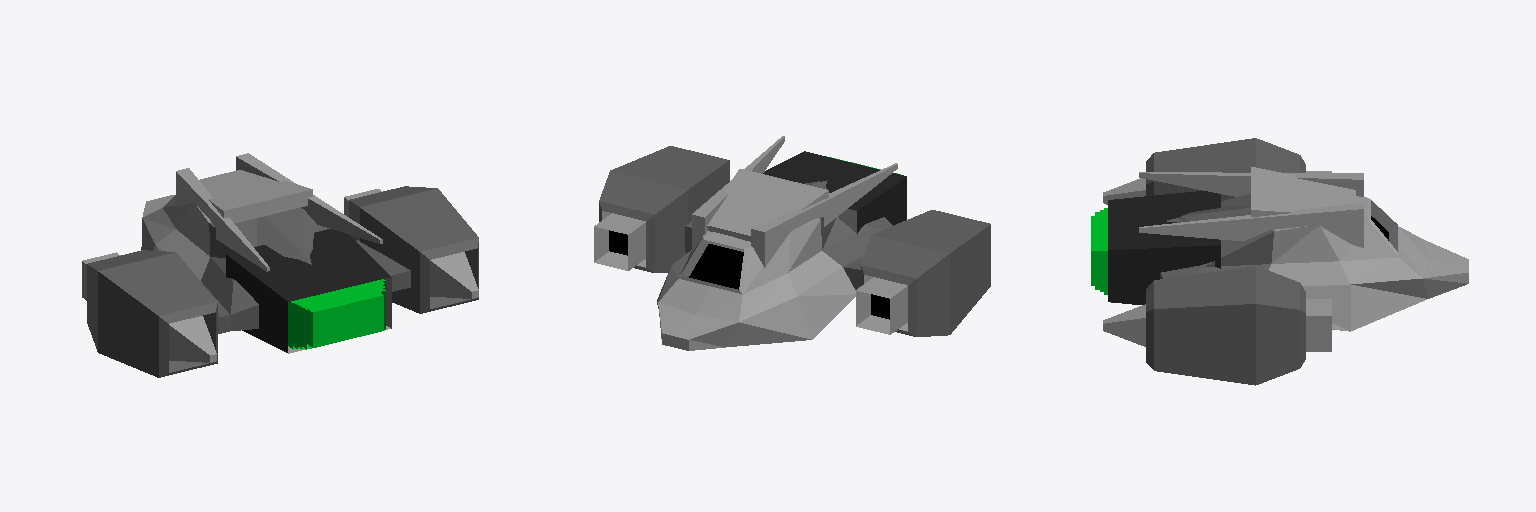
File: spaceship_Scene.obj
3 views of the same model, side by side, from view 1: azimuth 30°, elevation 25°; view 2: azimuth 150°, elevation 25°; view 3: azimuth 270°, elevation 25° (orthographic).
Bounding box in the file's own units: 8.7 × 3.27 × 8.38.